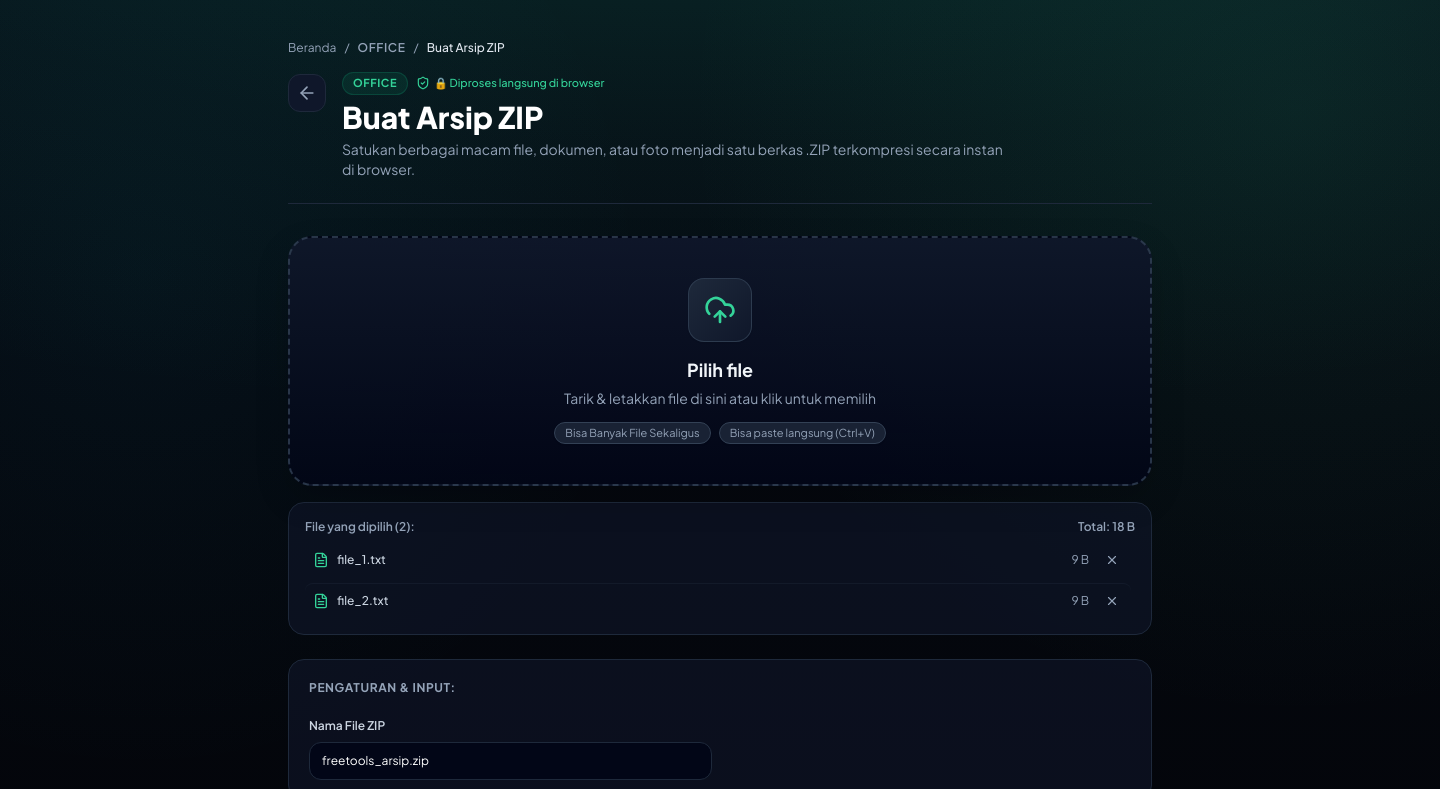
it: End-to-End UI & Functional User Journeys (Task 6) › 2. File Upload & Processing Flow › File Removal: allows removing a selected file from the queue before processing
Expected: the text "file_1.txt" is shown, x1=337 y1=552 x2=386 y2=568
Expected: the text "file_2.txt" is shown, x1=337 y1=593 x2=388 y2=609
// Remove file_1
Click the button named "Hapus file_1.txt" at (1112, 560), box x1=1101 y1=549 x2=1123 y2=571
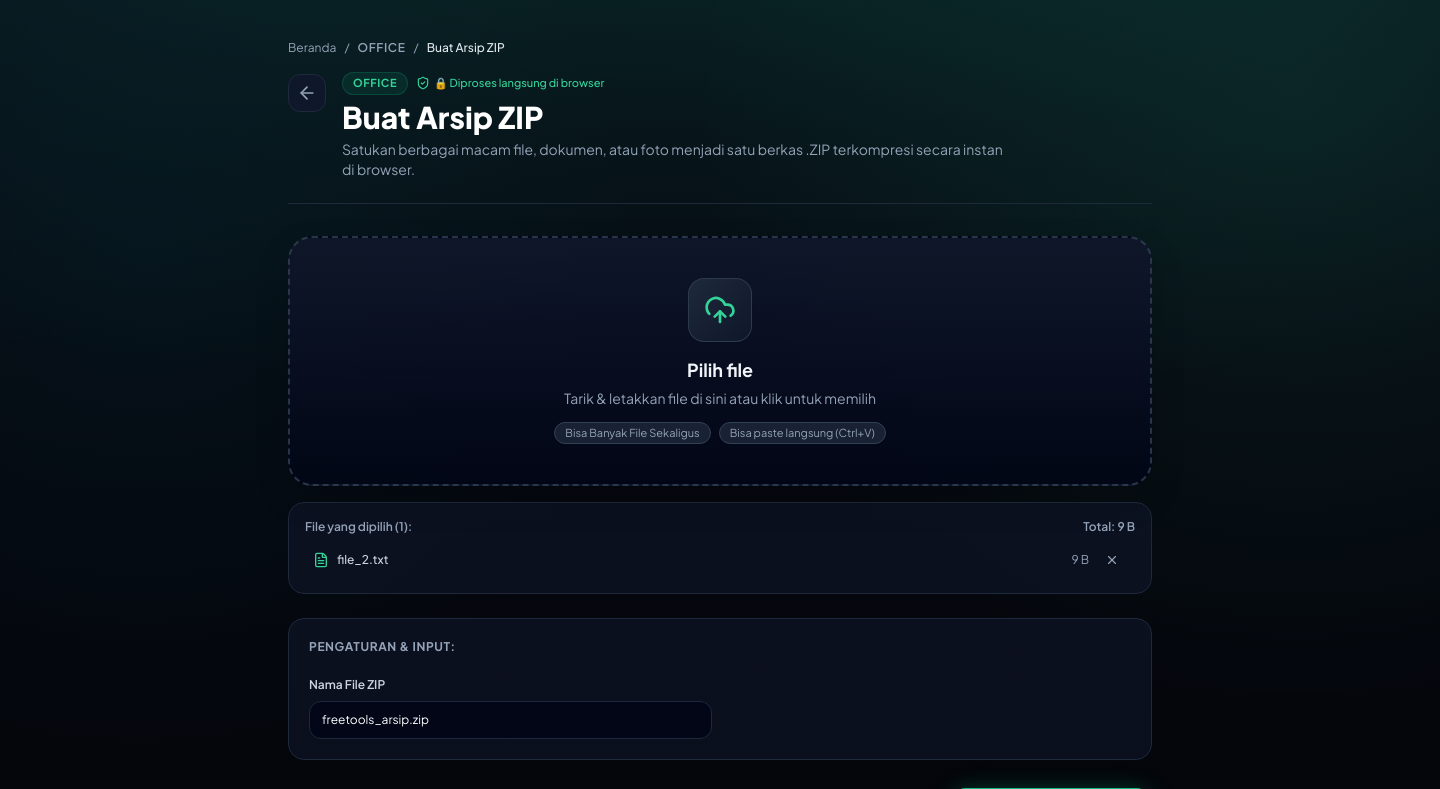
Expected: the text "file_2.txt" is shown, x1=337 y1=552 x2=388 y2=568
Expected: the text "file_1.txt" is gone
